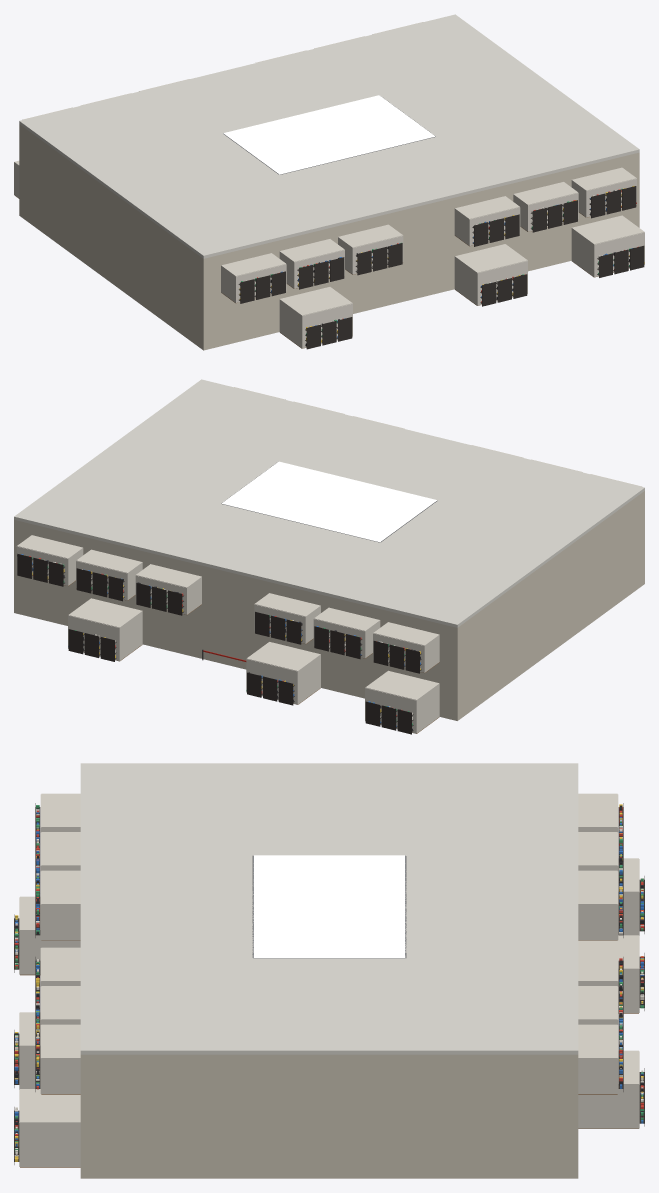
File: arena_atrium.glb
3 views of the same model, one above another, from view 1: azimuth 30°, elevation 25°; view 2: azimuth 150°, elevation 25°; view 3: azimuth 270°, elevation 25° (orthographic). The views are drawn at different scales.
Visible parts, largest first — view 1: Walls, ShopInteriors, SkylightGlass; view 2: Walls, ShopInteriors, SkylightGlass; view 3: Walls, ShopInteriors, SkylightGlass.
Part boxes in pixels (x1=…): Walls: x1=19, y1=14, x2=639, y2=350; ShopInteriors: x1=14, y1=22, x2=644, y2=349; SkylightGlass: x1=223, y1=95, x2=435, y2=174; Walls: x1=14, y1=379, x2=644, y2=720; ShopInteriors: x1=16, y1=387, x2=641, y2=734; SkylightGlass: x1=222, y1=461, x2=437, y2=542; Walls: x1=80, y1=763, x2=578, y2=1178; ShopInteriors: x1=14, y1=793, x2=644, y2=1167; SkylightGlass: x1=253, y1=855, x2=405, y2=958.
Bounding box in the file's own units: 44.8 × 9.38 × 41.59.
